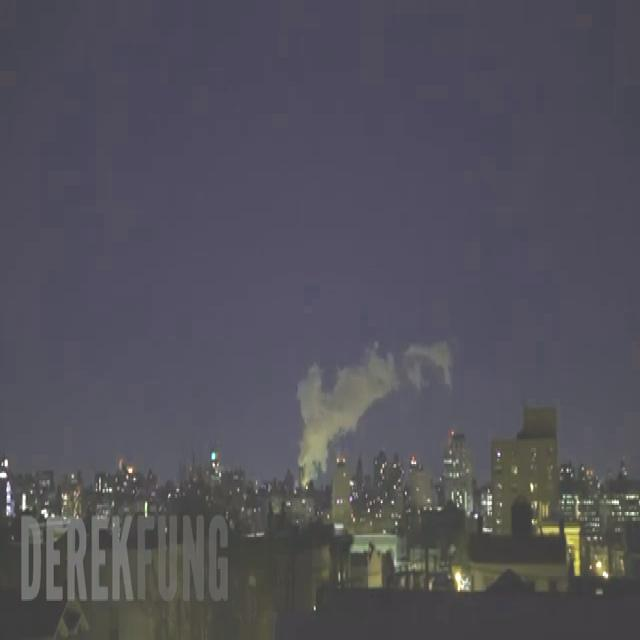smoke: (297, 341, 399, 478)
